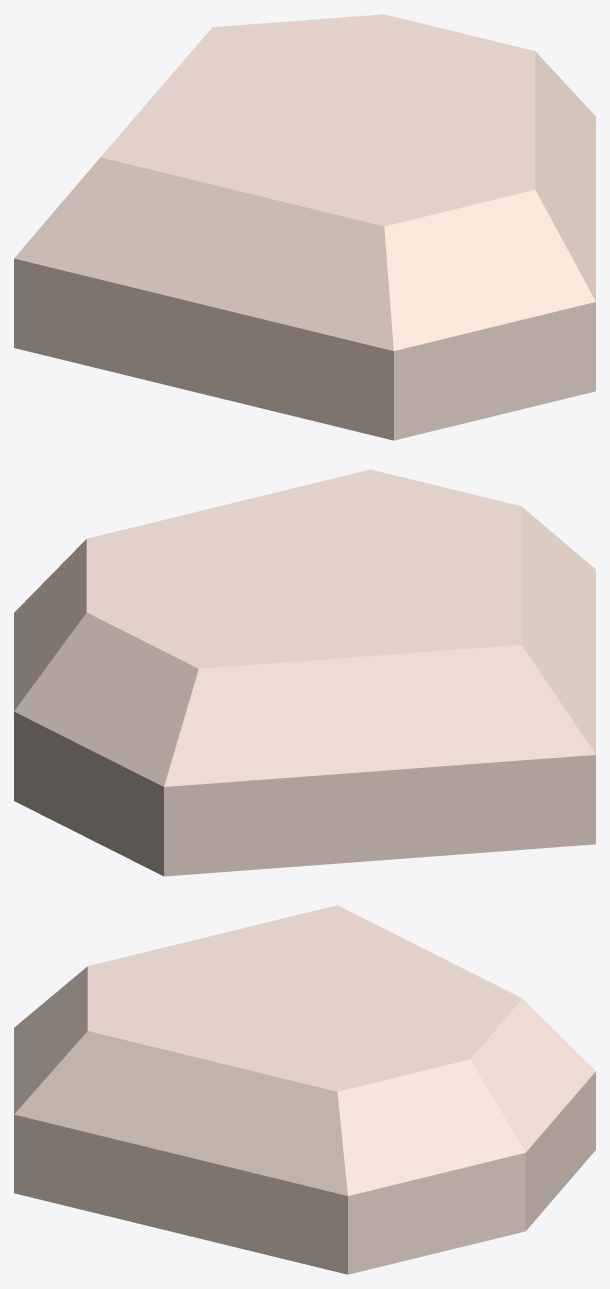
File: rock-type4-04-sand.glb
3 views of the same model, one above another, from view 1: azimuth 30°, elevation 25°; view 2: azimuth 150°, elevation 25°; view 3: azimuth 270°, elevation 25° (orthographic). The views are drawn at different scales.
Visible parts, largest first — view 1: Rock_Type4_04_mesh; view 2: Rock_Type4_04_mesh; view 3: Rock_Type4_04_mesh.
Part boxes in pixels (<box>): Rock_Type4_04_mesh: <box>14,14,595,440</box>; Rock_Type4_04_mesh: <box>14,469,595,876</box>; Rock_Type4_04_mesh: <box>14,905,595,1274</box>.
Bounding box in the file's own units: 1.18 × 0.3414 × 1.17.
1 material, 1 textured.
